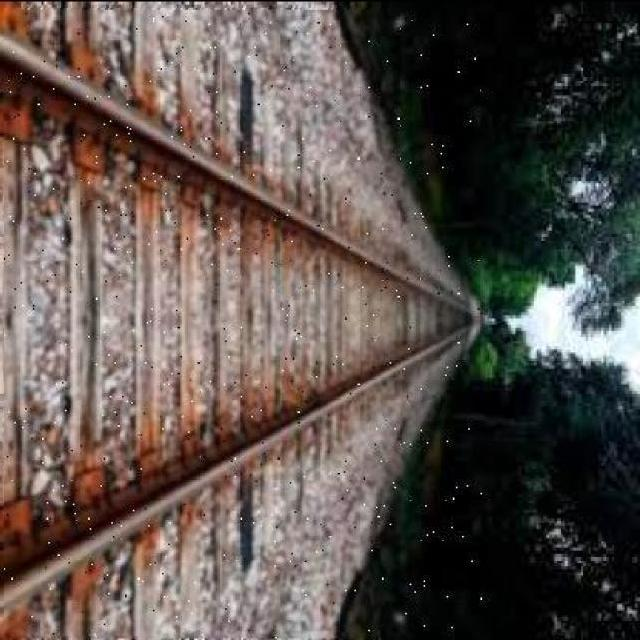rail: (5, 10, 485, 637)
